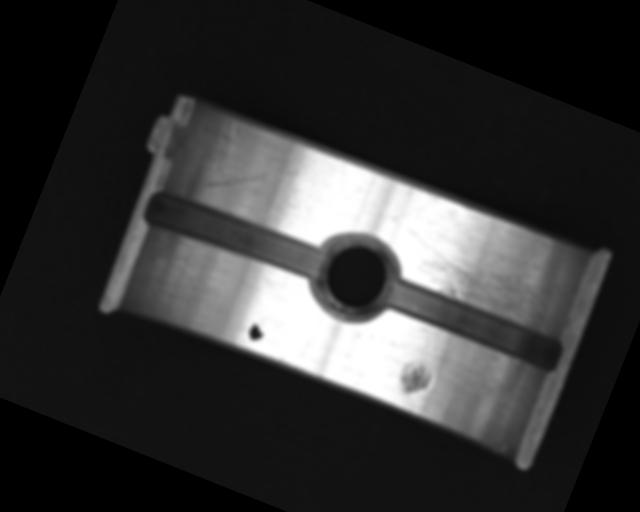blot: (245, 317, 268, 344)
bruise: (392, 356, 435, 399)
gap: (137, 181, 328, 291), (378, 270, 569, 377)
hole: (300, 221, 411, 335)
nick: (200, 138, 301, 220)
scratch: (388, 205, 578, 338)
